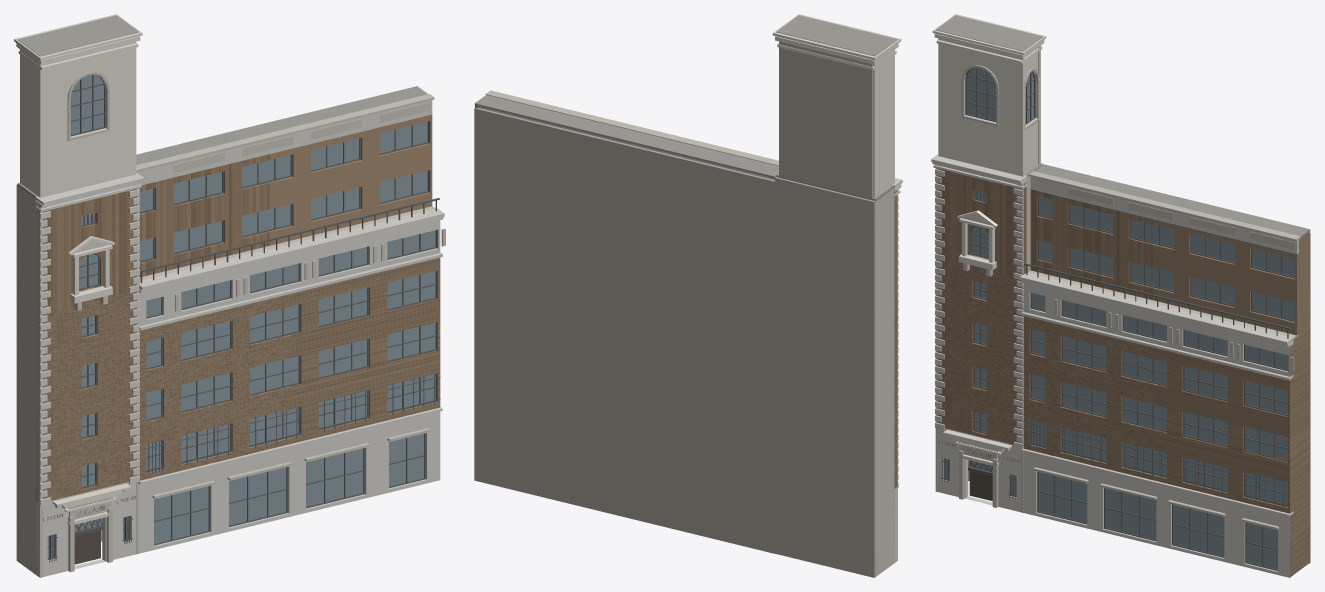
Rendered from huangpu-rockbund-lyceum-building-lod.glb.
3 views of the same model, side by side, from view 1: azimuth 30°, elevation 25°; view 2: azimuth 150°, elevation 25°; view 3: azimuth 330°, elevation 25° (orthographic). The views are drawn at different scales.
Parts seen in each view (by area): view 1: 兰心大楼圆明园路入口塔楼与东立面; view 2: 兰心大楼圆明园路入口塔楼与东立面; view 3: 兰心大楼圆明园路入口塔楼与东立面.
Part boxes in pixels (<box>): 兰心大楼圆明园路入口塔楼与东立面: <box>14,14,445,577</box>; 兰心大楼圆明园路入口塔楼与东立面: <box>474,14,902,577</box>; 兰心大楼圆明园路入口塔楼与东立面: <box>931,14,1310,577</box>.
Size of the model in its own units: 28.91 by 35.45 by 3.53.
10 materials, 1 textured.
